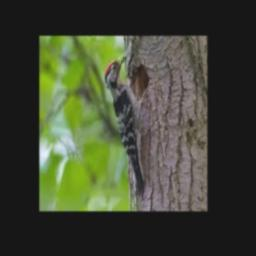Woodpecker: (105, 55, 149, 198)
